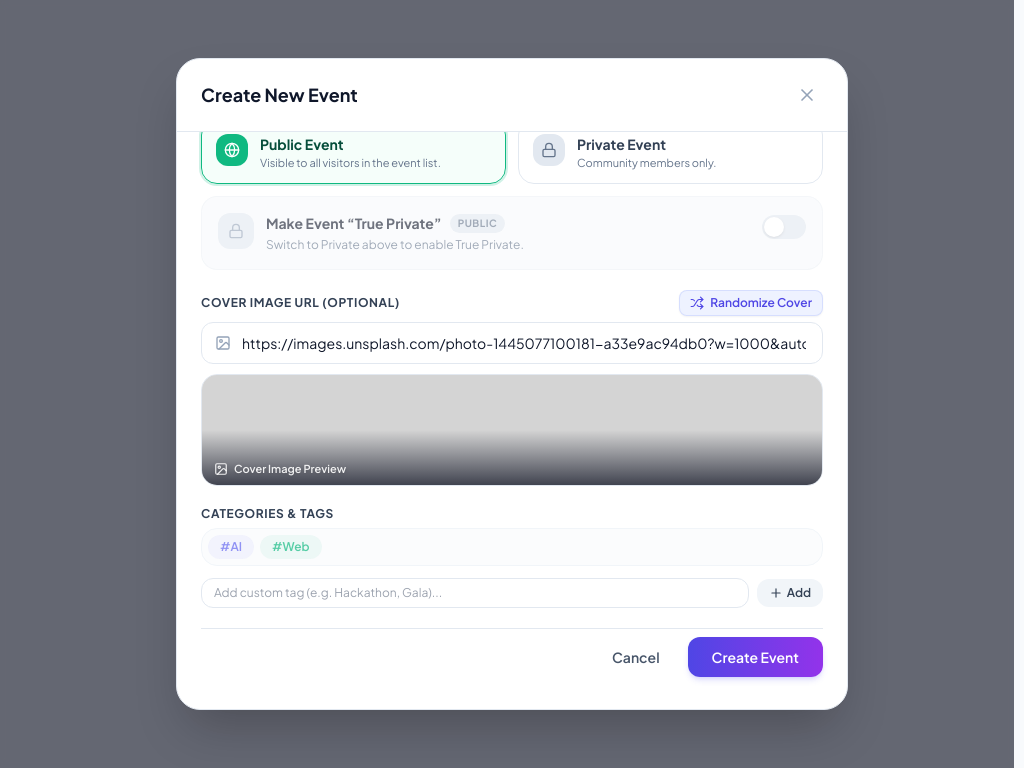
Test: EventFormModal Component › renders existing tags and adds new custom tag in real-time
This screenshot has width=1024, height=768.
(page scrolled)
Expected: the button "#AI" is shown, [208,535,254,559]
Expected: the button "#Web" is shown, [260,535,322,559]
Type "Hackathon" into the field with placeholder "Add custom tag (e.g. Hackathon, Gala)...". click: (475, 593)
box: [201,578,749,608]
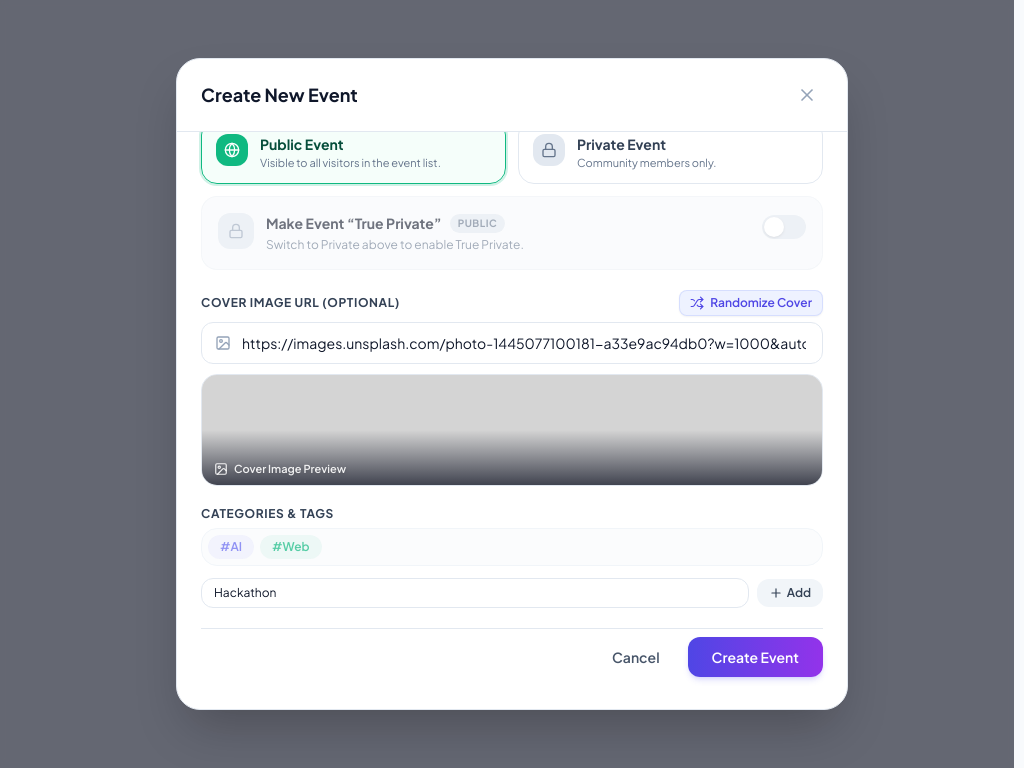
Click the button "Add". click: (790, 593)
box: [757,579,823,607]
(page scrolled)
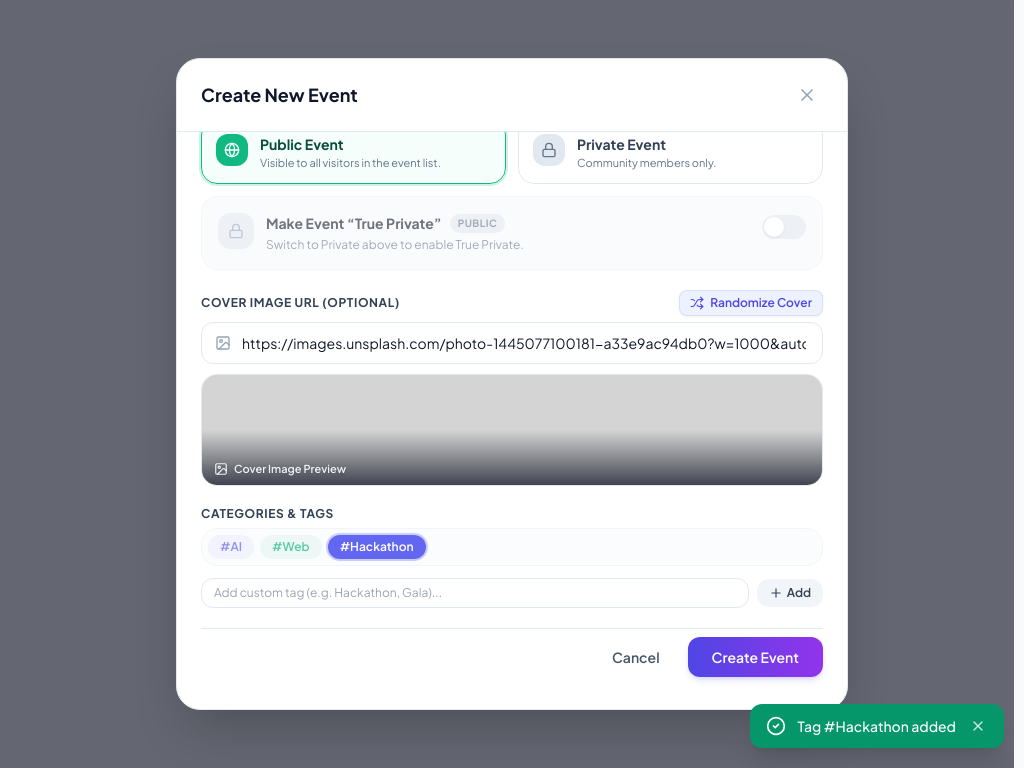
Expected: the button "#Hackathon" is shown, [328,535,426,559]
